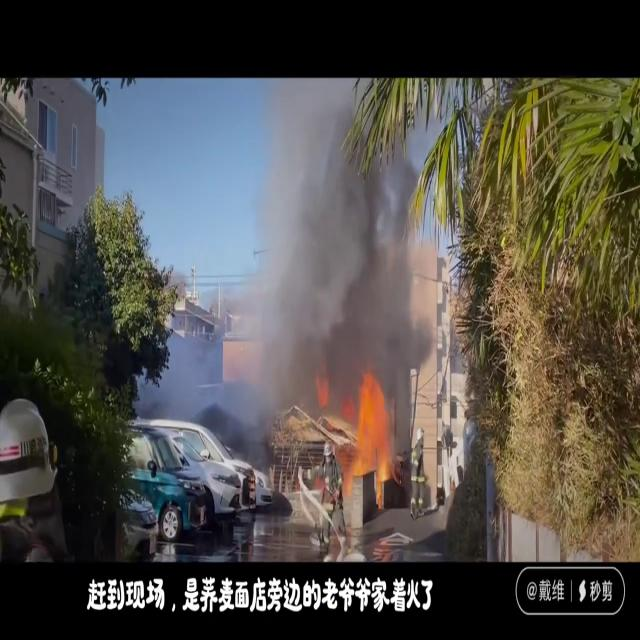Fire: (342, 373, 397, 495)
Smoke: (197, 80, 444, 418)
